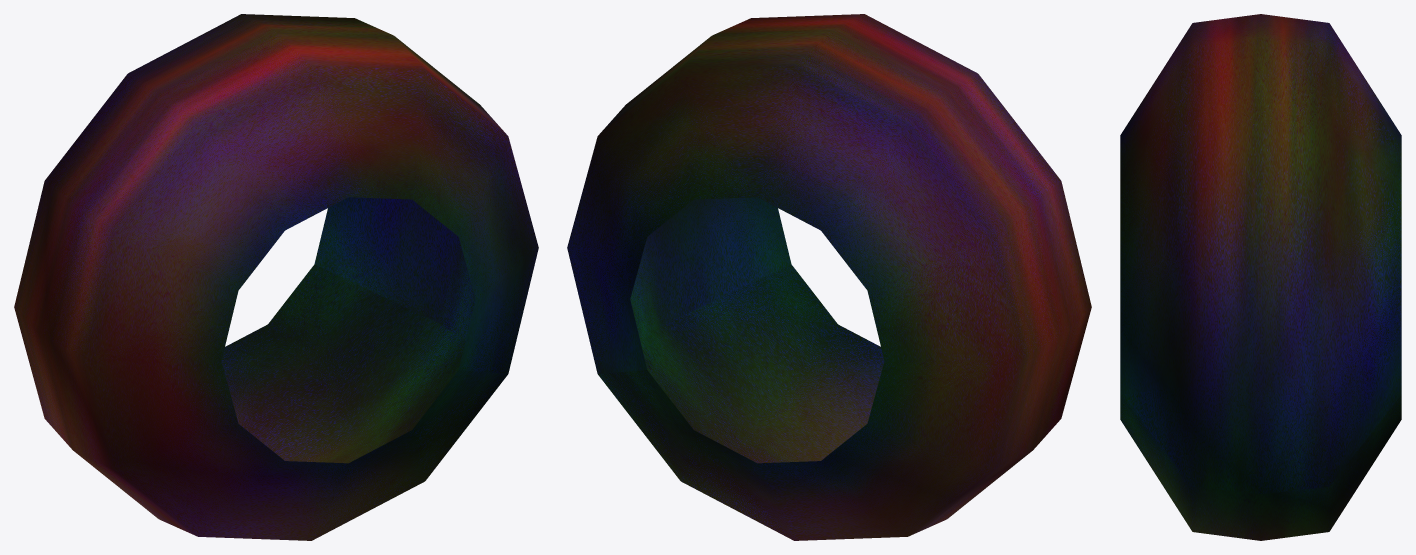
The model's file is SandCurl.fbx.
3 views of the same model, side by side, from view 1: azimuth 30°, elevation 25°; view 2: azimuth 150°, elevation 25°; view 3: azimuth 270°, elevation 25° (orthographic). The views are drawn at different scales.
Visible parts, largest first — view 1: pSphere1; view 2: pSphere1; view 3: pSphere1.
Boxes of the visible parts, <box> form: pSphere1: <box>14,14,538,540</box>; pSphere1: <box>567,14,1091,540</box>; pSphere1: <box>1120,14,1401,540</box>.
Size of the model in its own units: 137 by 137 by 72.9.
Materials: 1 (1 with a texture image).
